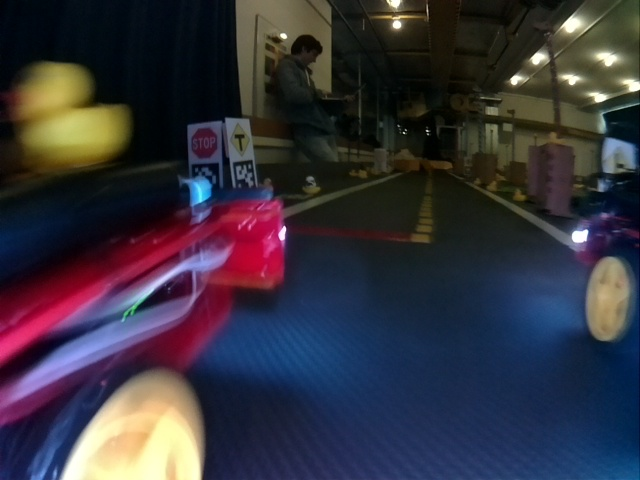Duckie: (22, 66, 120, 164), (305, 180, 317, 192), (512, 190, 523, 201), (357, 168, 366, 178), (263, 179, 273, 188), (488, 182, 494, 190)
Duckiebot: (3, 175, 286, 471), (576, 194, 635, 345)
Intersection sign: (229, 119, 254, 153)
QR code: (194, 163, 220, 187), (232, 163, 256, 187)
Stop sign: (189, 126, 216, 159)
